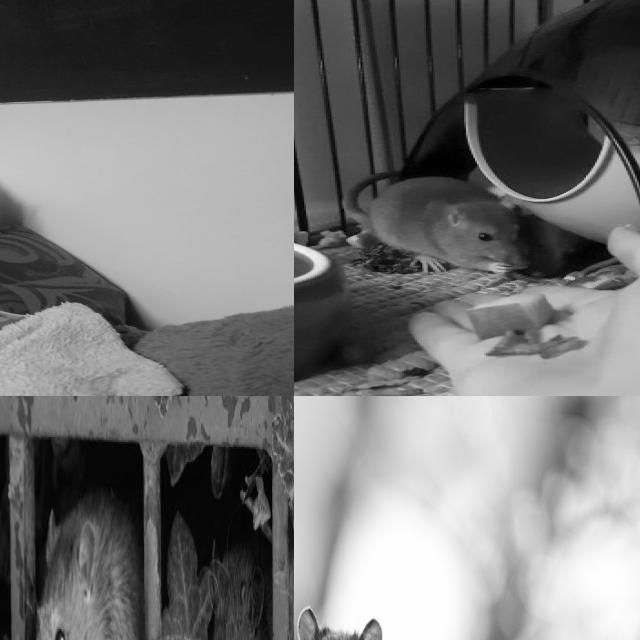rat: (14, 460, 150, 640), (368, 175, 534, 274), (199, 475, 294, 640)
